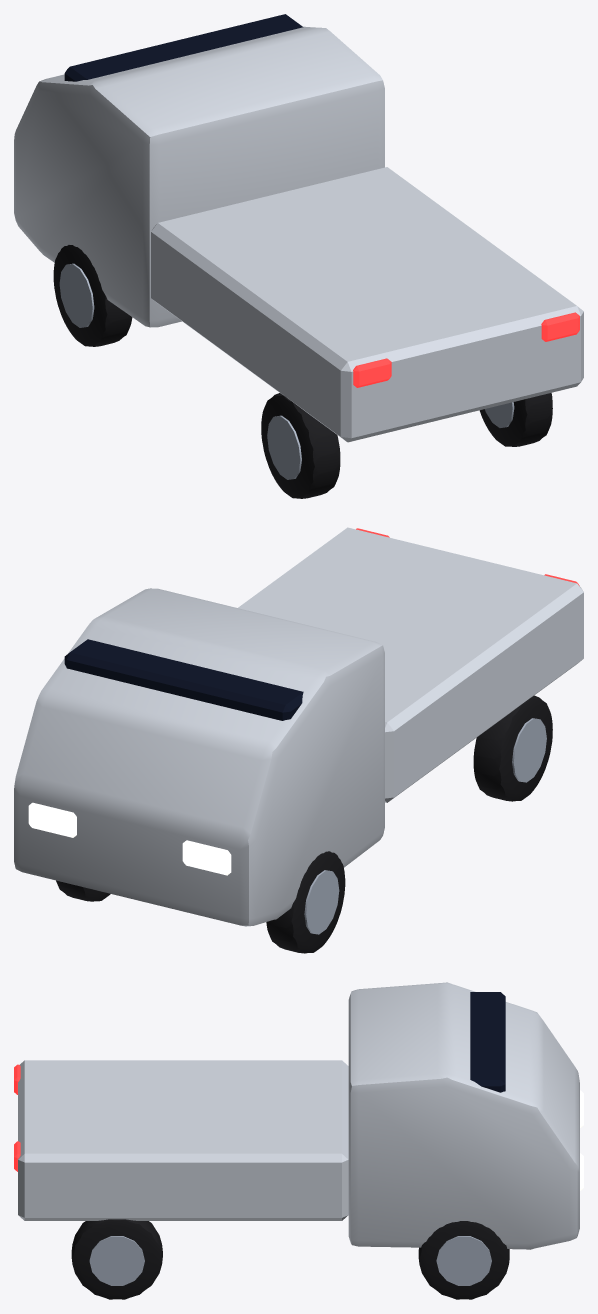
Rendered from car_kei_truck.glb.
3 views of the same model, one above another, from view 1: azimuth 30°, elevation 25°; view 2: azimuth 150°, elevation 25°; view 3: azimuth 270°, elevation 25° (orthographic). The views are drawn at different scales.
Visible parts, largest first — view 1: paint_white, rubber, glass, steel, lamp_red; view 2: paint_white, rubber, glass, steel, lamp_white; view 3: paint_white, rubber, steel, glass.
Part boxes in pixels (bbox=[...]): paint_white: bbox=[14, 26, 583, 442]; rubber: bbox=[53, 245, 552, 498]; glass: bbox=[64, 14, 303, 81]; steel: bbox=[59, 263, 514, 479]; lamp_red: bbox=[353, 312, 579, 387]; paint_white: bbox=[14, 527, 583, 926]; rubber: bbox=[56, 695, 552, 953]; glass: bbox=[64, 639, 303, 720]; steel: bbox=[304, 718, 546, 934]; lamp_white: bbox=[28, 802, 231, 875]; paint_white: bbox=[18, 982, 579, 1249]; rubber: bbox=[71, 1219, 509, 1299]; steel: bbox=[89, 1236, 491, 1285]; glass: bbox=[470, 992, 505, 1092].
Bounding box in the file's own units: 1.44 × 1.49 × 3.45.
